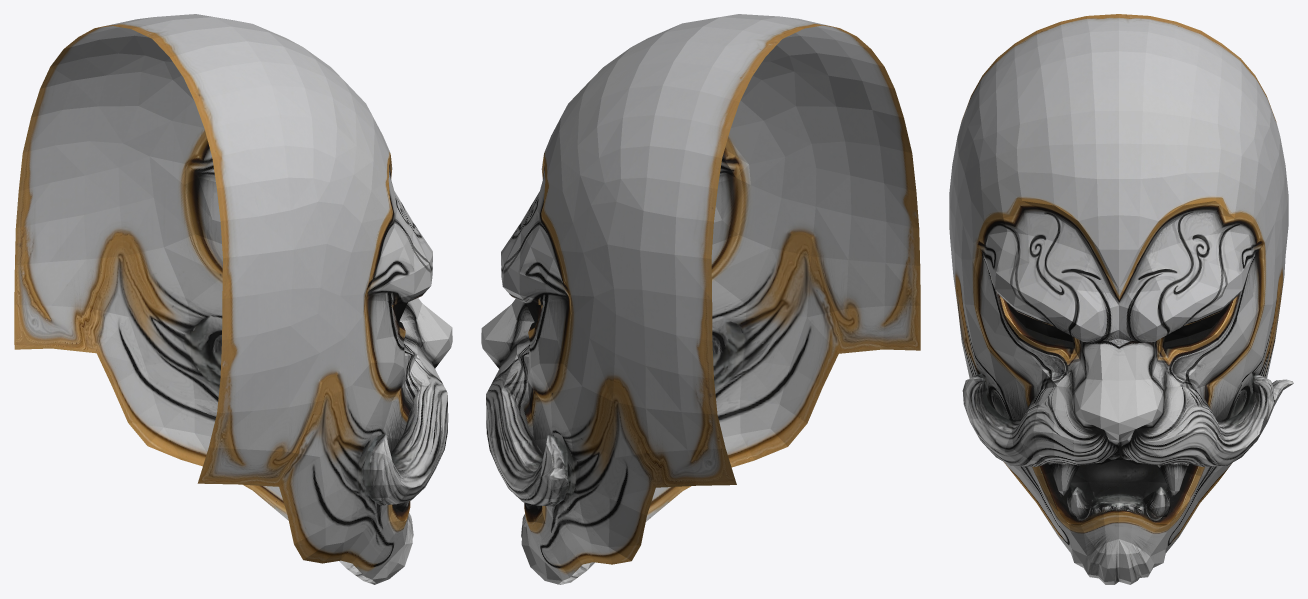
The model's file is ornate+mask+3d+model.glb.
The picture shows the model from 3 angles, left to right: view 1: azimuth 30°, elevation 25°; view 2: azimuth 150°, elevation 25°; view 3: azimuth 270°, elevation 25°; orthographic projection. The views are drawn at different scales.
Visible parts, largest first — view 1: tripo_node_b4974dbc-2833-47fc-8d3b-396e87e81d20; view 2: tripo_node_b4974dbc-2833-47fc-8d3b-396e87e81d20; view 3: tripo_node_b4974dbc-2833-47fc-8d3b-396e87e81d20.
Boxes of the visible parts, x1,y1,x2,y2 form: tripo_node_b4974dbc-2833-47fc-8d3b-396e87e81d20: (14,14,452,584); tripo_node_b4974dbc-2833-47fc-8d3b-396e87e81d20: (481,14,920,584); tripo_node_b4974dbc-2833-47fc-8d3b-396e87e81d20: (949,14,1293,584).
Bounding box in the file's own units: 0.6035 × 0.998 × 0.6465.
1 material, 1 textured.
